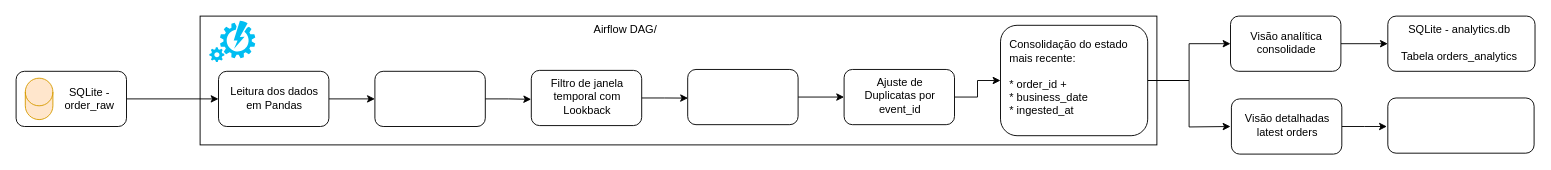
Image size: 1551x170. Some labels were removed from this diagram. The centre of each missing label's shape, as x and y in pixels:
Parquet - data output: the point at 1460,125
Tranformações em Pyspark: the point at 429,98
Tratamento de Registros Tardios: the point at 742,97
